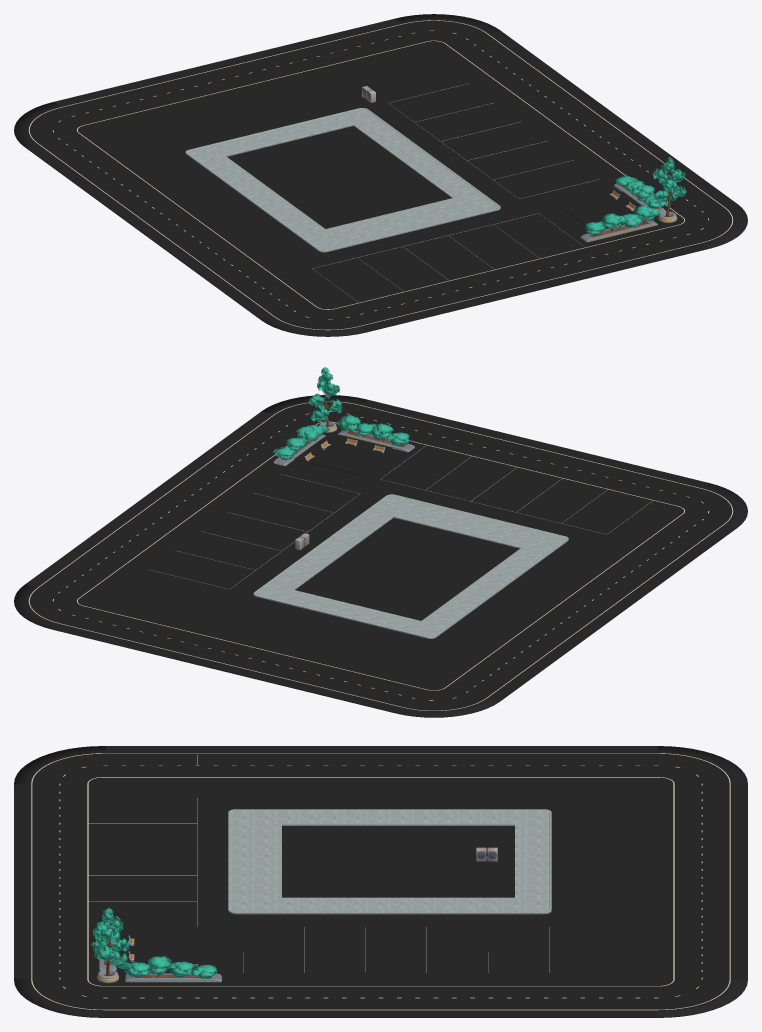
File: carPark.gltf
3 renders of one model, top to bottom at view 1: azimuth 30°, elevation 25°; view 2: azimuth 150°, elevation 25°; view 3: azimuth 270°, elevation 25°, orthographic. The views are drawn at different scales.
Parts seen in each view (by area): view 1: floor.ext, Plane.016, Plane.017, Plane.024, Plane.049, Plane.055, Plane.050, Plane.051, Plane.052, Plane.053, Plane.009, Plane.060 (+47 smaller); view 2: floor.ext, Plane.060, Plane.057, Plane.058, Plane.061, Plane.059, Plane.055, Plane.051, Plane.052, Plane.053, Plane.050, Plane.049 (+46 smaller); view 3: floor.ext, Plane.011, Plane.032, Plane.033, Plane.012, Plane.025, Plane.023, Plane.009, Plane.010, Plane.017, Plane.024, Plane.059 (+47 smaller).
Part boxes in pixels (<box>): floor.ext: <box>185,108,500,252</box>; Plane.016: <box>465,253,571,298</box>; Plane.017: <box>397,270,503,315</box>; Plane.024: <box>329,286,435,331</box>; Plane.049: <box>104,188,210,233</box>; Plane.055: <box>64,159,170,204</box>; Plane.050: <box>143,217,249,261</box>; Plane.051: <box>182,245,288,290</box>; Plane.052: <box>222,274,328,319</box>; Plane.053: <box>25,130,131,175</box>; Plane.009: <box>551,117,657,162</box>; Plane.060: <box>54,85,160,130</box>; floor.ext: <box>253,494,568,638</box>; Plane.060: <box>326,667,432,712</box>; Plane.057: <box>122,617,228,662</box>; Plane.058: <box>190,634,296,679</box>; Plane.061: <box>54,601,160,646</box>; Plane.059: <box>258,650,364,696</box>; Plane.055: <box>473,626,579,671</box>; Plane.051: <box>590,540,697,585</box>; Plane.052: <box>630,511,736,556</box>; Plane.053: <box>433,655,539,700</box>; Plane.050: <box>551,569,658,614</box>; Plane.049: <box>512,597,618,642</box>; floor.ext: <box>228,809,551,914</box>; Plane.011: <box>472,978,564,1017</box>; Plane.032: <box>564,784,656,823</box>; Plane.033: <box>564,823,656,862</box>; Plane.012: <box>564,978,656,1017</box>; Plane.025: <box>105,784,197,823</box>; Plane.023: <box>105,823,197,862</box>; Plane.009: <box>289,978,380,1017</box>; Plane.010: <box>381,978,472,1017</box>; Plane.017: <box>14,823,105,862</box>; Plane.024: <box>14,784,105,823</box>; Plane.059: <box>656,823,747,862</box>.
Size of what is drawn, in the model's own units: 112 by 15.61 by 128.
8 materials, 8 textured.
